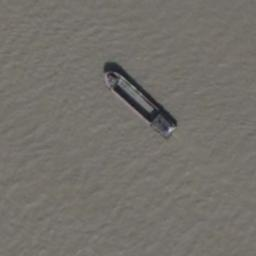boat: (102, 65, 177, 139)
